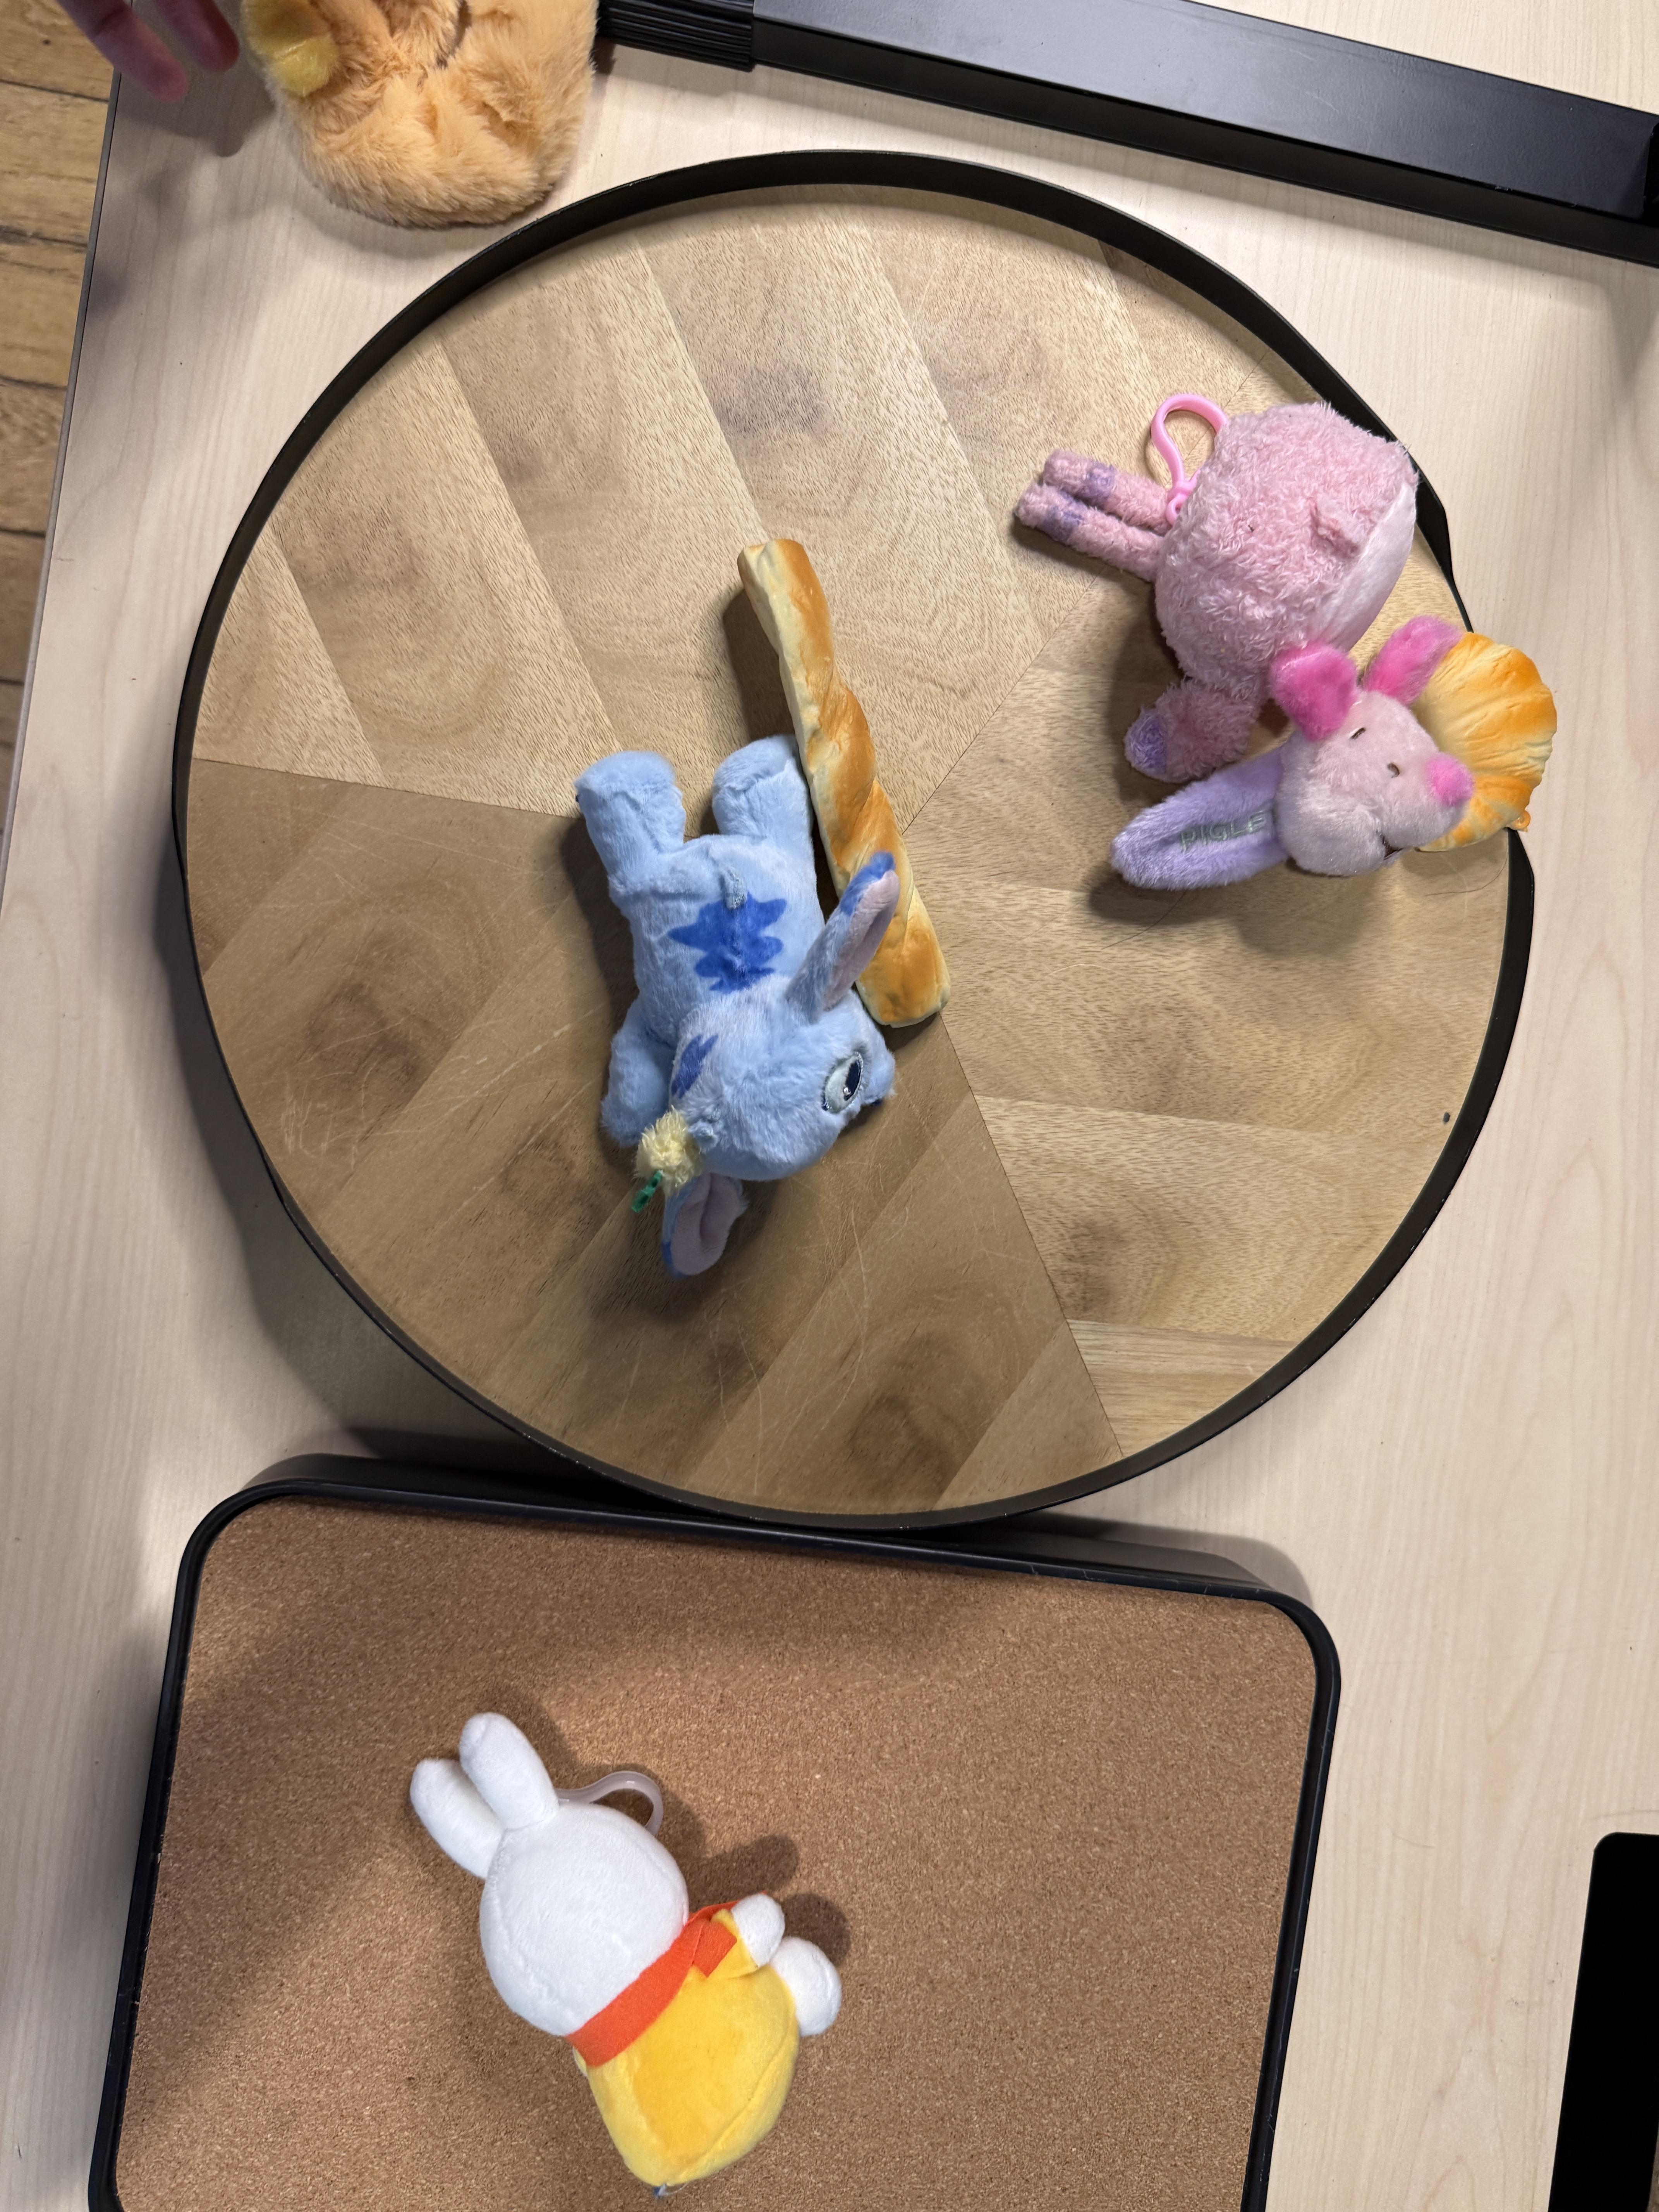bread: (735, 538, 950, 1038)
doll: (403, 1700, 847, 2195), (580, 740, 906, 1289), (1011, 392, 1424, 772), (1103, 620, 1471, 890)
